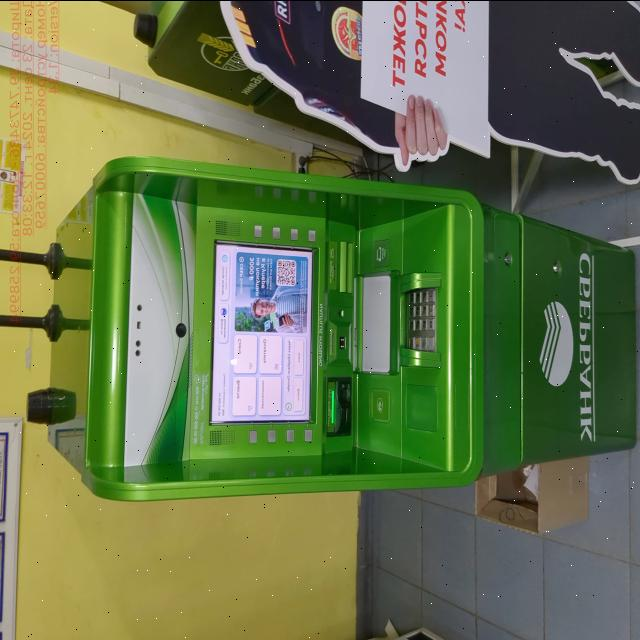bank: (39, 151, 640, 508)
